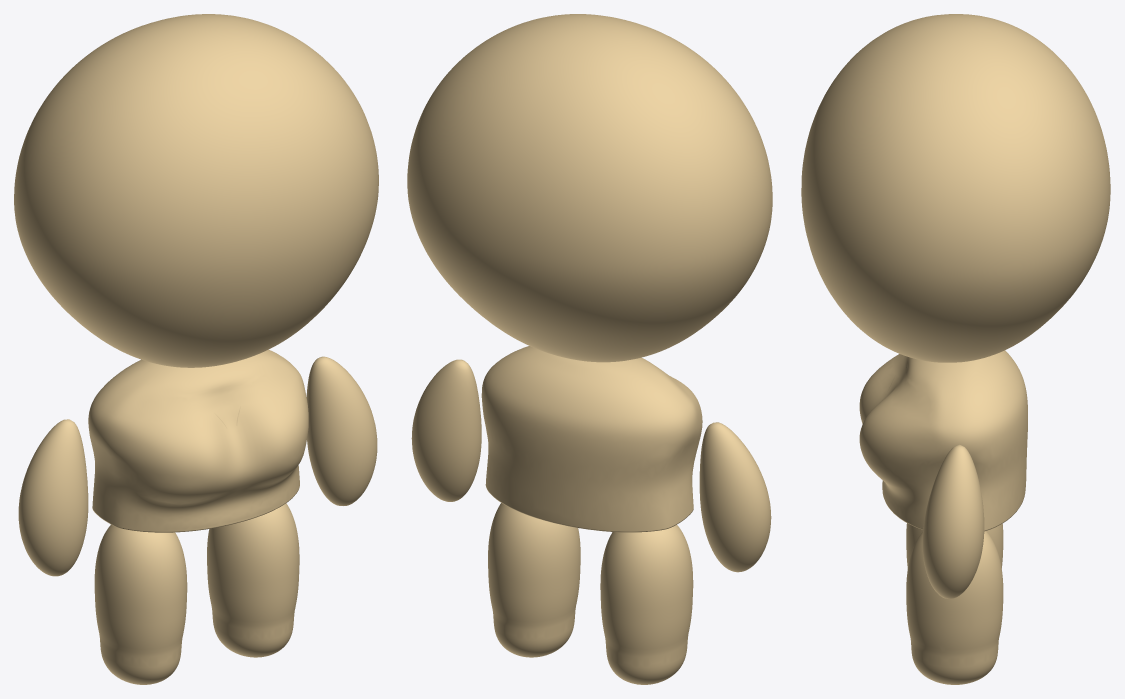
File: Feminine-base264.glb
3 renders of one model, left to right at view 1: azimuth 30°, elevation 25°; view 2: azimuth 150°, elevation 25°; view 3: azimuth 270°, elevation 25°, orthographic. The views are drawn at different scales.
Visible parts, largest first — view 1: Skin / soft oval head, Skin / rounded torso, Skin / pants fitted leg -1, Skin / pants fitted leg 1, Skin / swept arm -1, Skin / swept arm 1; view 2: Skin / soft oval head, Skin / rounded torso, Skin / pants fitted leg -1, Skin / pants fitted leg 1, Skin / swept arm -1, Skin / swept arm 1; view 3: Skin / soft oval head, Skin / rounded torso, Skin / pants fitted leg 1, Skin / swept arm 1, Skin / pants fitted leg -1.
Part boxes in pixels (<box>): Skin / soft oval head: <box>14,14,378,367</box>; Skin / rounded torso: <box>88,349,308,532</box>; Skin / pants fitted leg -1: <box>94,524,187,684</box>; Skin / pants fitted leg 1: <box>207,503,299,657</box>; Skin / swept arm -1: <box>18,419,88,576</box>; Skin / swept arm 1: <box>306,356,377,505</box>; Skin / soft oval head: <box>407,14,772,362</box>; Skin / rounded torso: <box>481,346,702,532</box>; Skin / pants fitted leg -1: <box>600,525,693,684</box>; Skin / pants fitted leg 1: <box>488,503,580,657</box>; Skin / swept arm -1: <box>699,422,771,572</box>; Skin / swept arm 1: <box>411,359,481,501</box>; Skin / soft oval head: <box>801,14,1110,362</box>; Skin / rounded torso: <box>859,350,1027,531</box>; Skin / pants fitted leg 1: <box>906,531,1003,684</box>; Skin / swept arm 1: <box>922,444,984,598</box>; Skin / pants fitted leg -1: <box>906,523,1003,568</box>.
Size of the model in its own units: 1.04 by 1.8 by 0.8098.
